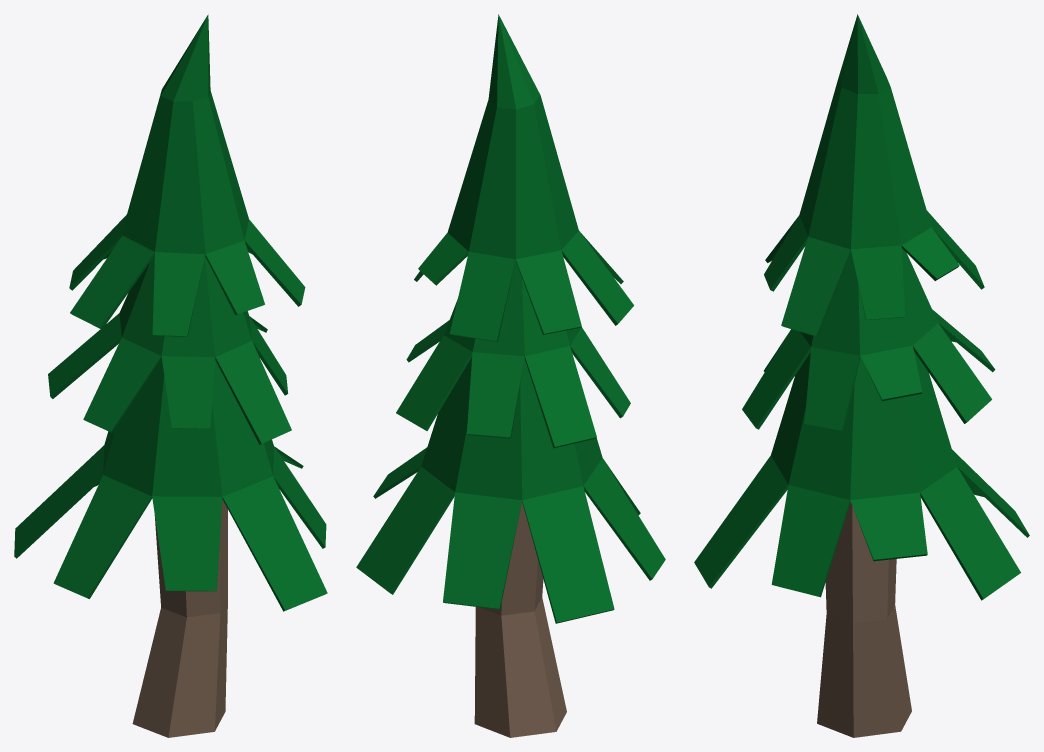
Rendered from Spruce_2.fbx.
3 renders of one model, left to right at view 1: azimuth 30°, elevation 25°; view 2: azimuth 150°, elevation 25°; view 3: azimuth 270°, elevation 25°, orthographic. The views are drawn at different scales.
Parts seen in each view (by area): view 1: Spruce_2; view 2: Spruce_2; view 3: Spruce_2.
Part boxes in pixels (left/top/right/bottom): Spruce_2: left=14, top=14, right=327, bottom=737; Spruce_2: left=356, top=14, right=665, bottom=737; Spruce_2: left=694, top=14, right=1029, bottom=737.
Size of the model in its own units: 137 by 151 by 355.
